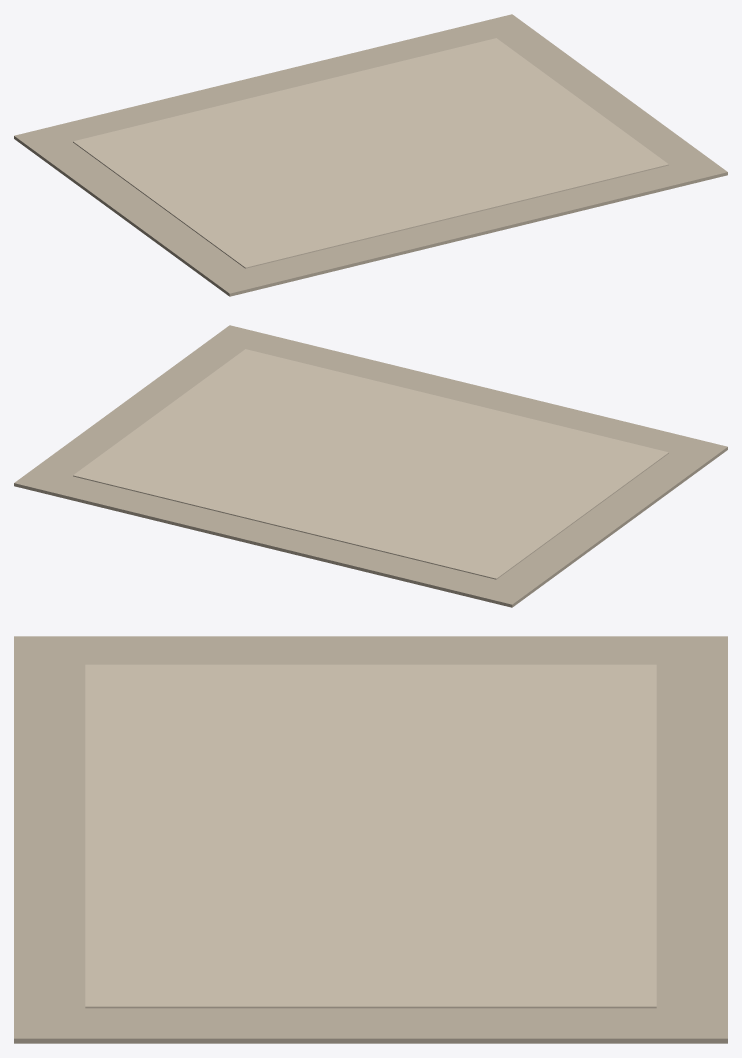
Rendered from tapete.glb.
3 views of the same model, one above another, from view 1: azimuth 30°, elevation 25°; view 2: azimuth 150°, elevation 25°; view 3: azimuth 270°, elevation 25° (orthographic). The views are drawn at different scales.
Visible parts, largest first — view 1: tapete_malha; view 2: tapete_malha; view 3: tapete_malha.
Boxes of the visible parts, x1,y1,x2,y2 form: tapete_malha: (14,14,727,296); tapete_malha: (14,325,727,607); tapete_malha: (14,636,727,1043).
Bounding box in the file's own units: 2 × 0.016 × 1.5.
